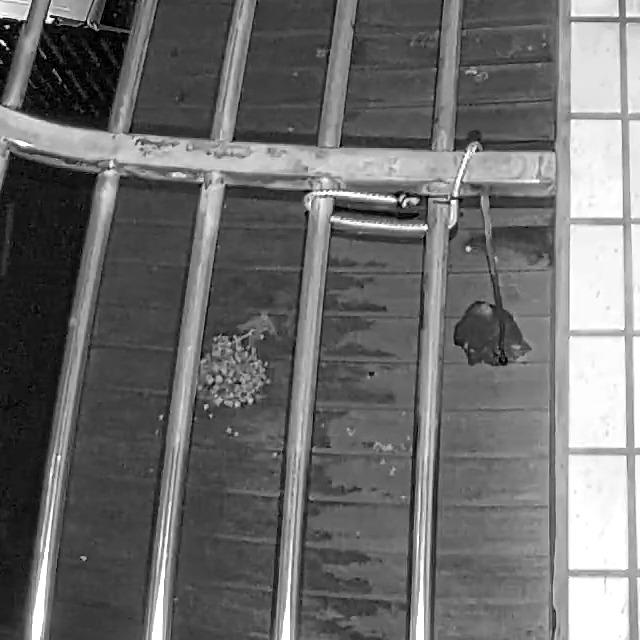rat: (460, 226, 556, 271)
